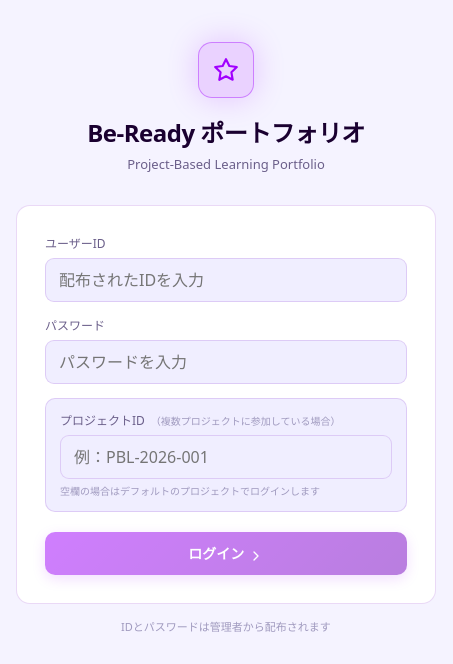
Test: App - ログインエラー › パスワードが一致しない場合 "パスワードが違います" エラーを表示する
In the field with placeholder "配布されたIDを入力": coordinates (226, 280) [45,258,407,302], type "existing-user"
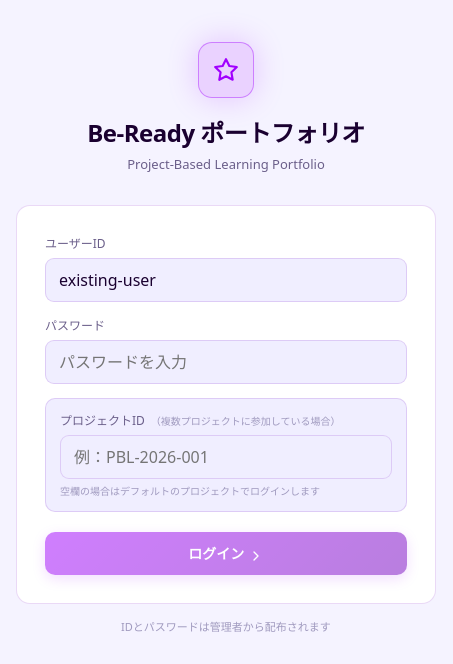
In the password field with placeholder "パスワードを入力": coordinates (226, 362) [45,340,407,384], type "wrongpassword"
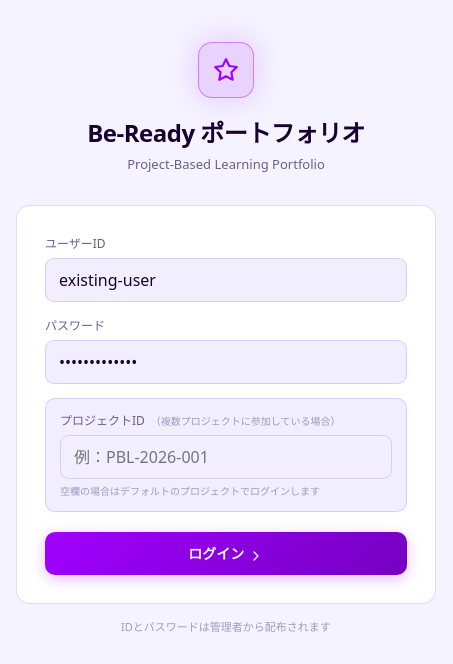
Click the button "ログイン": coordinates (226, 554) [45,532,407,575]
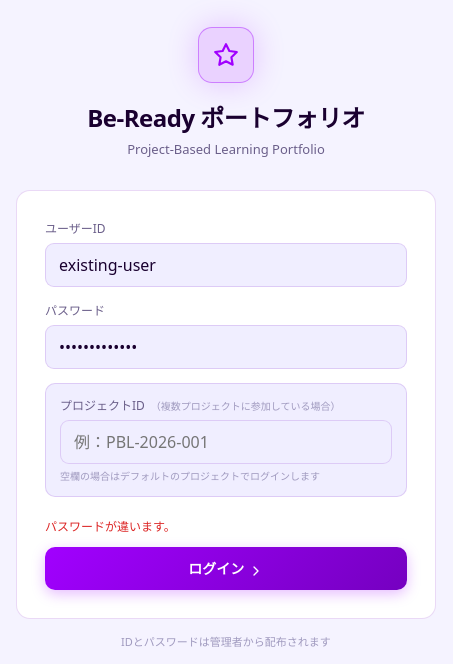
Expected: the text "パスワードが違います。" is shown, [45,518,176,535]
